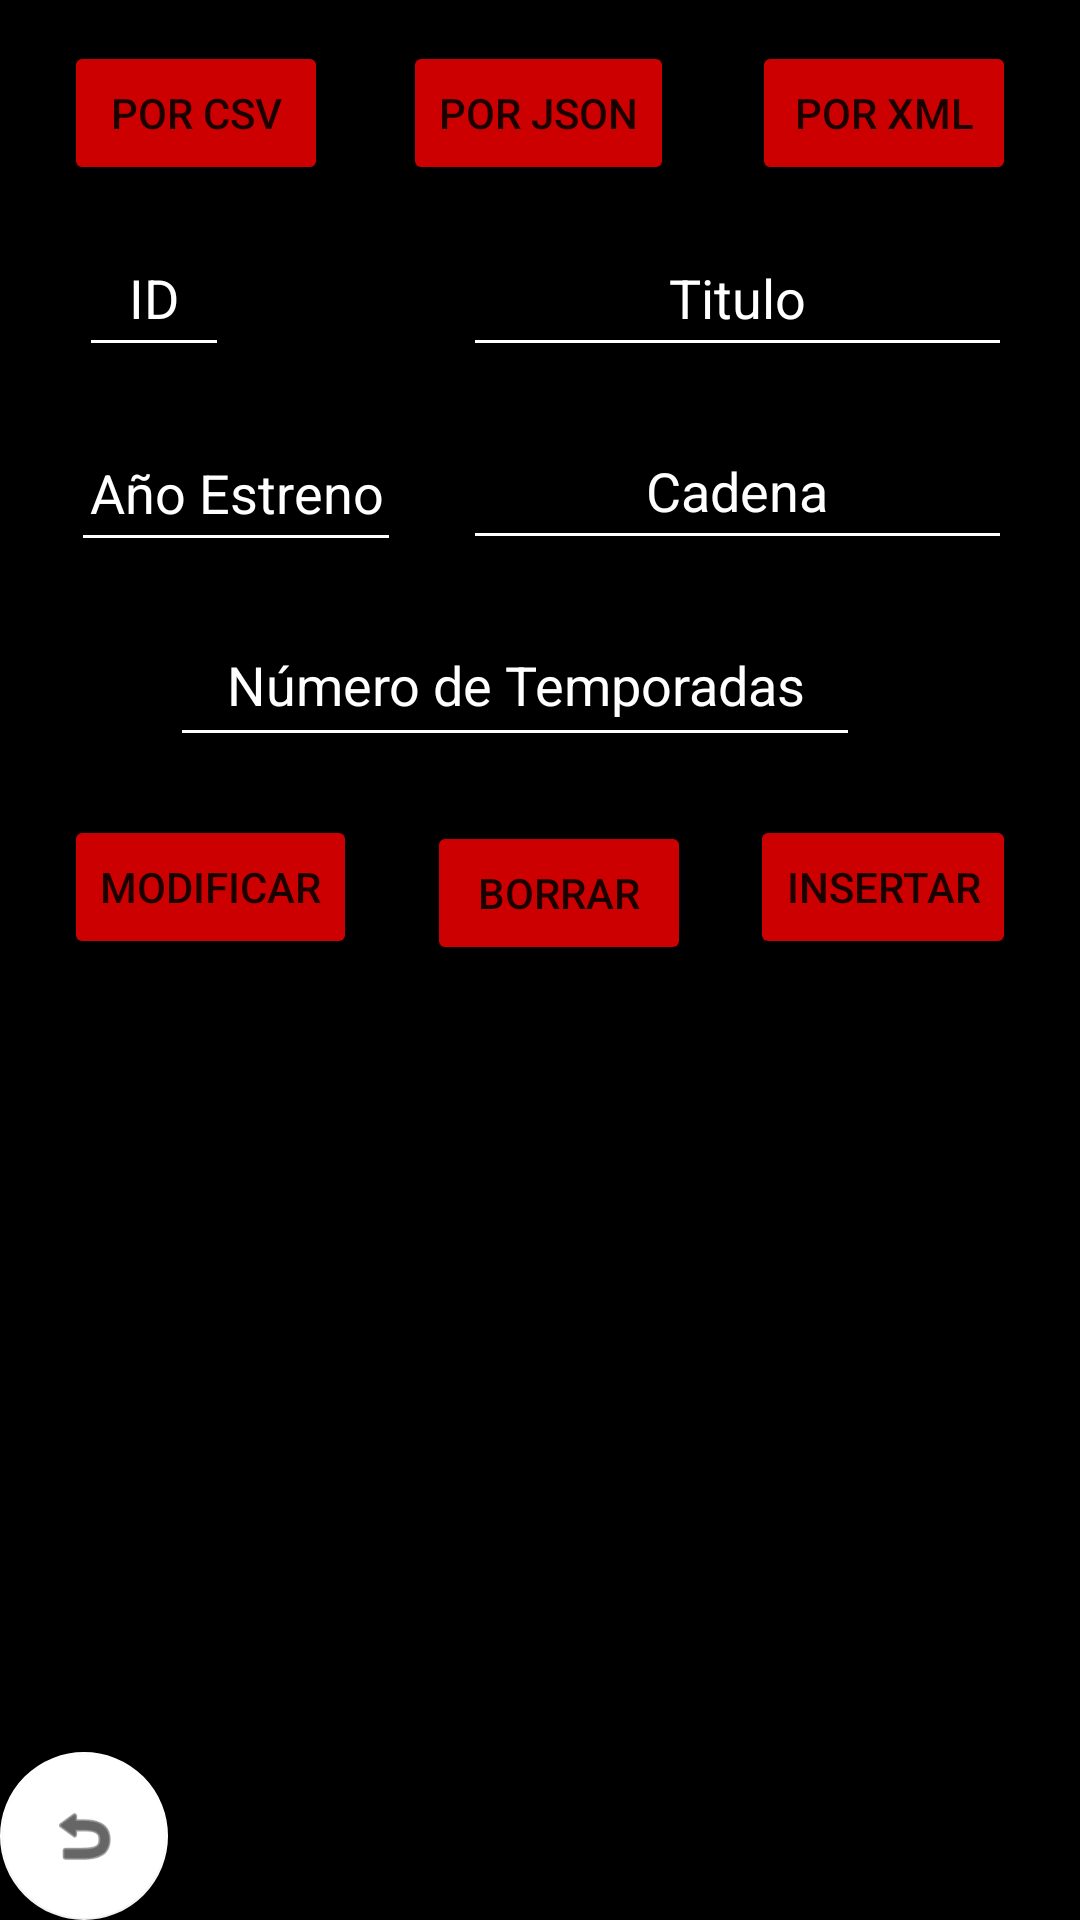

Where to tap for icons on this 1080px×1920px app screen, as (x=x, y=y):
revert: (x=84, y=1836)
